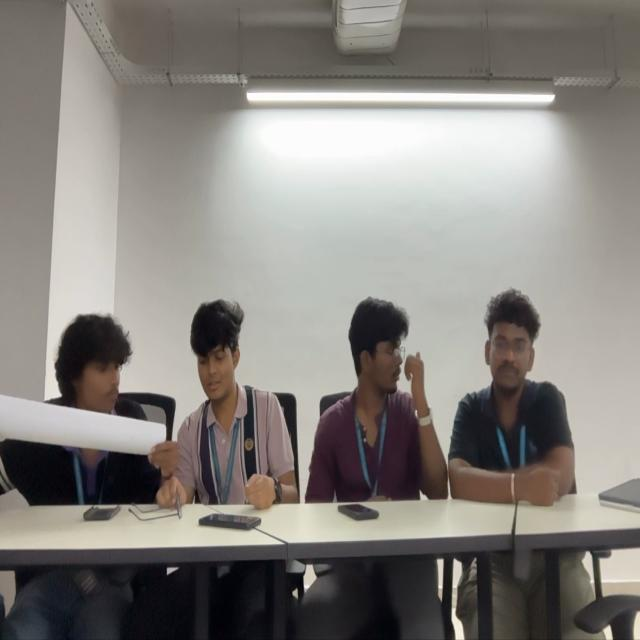Isolated: (306, 297, 445, 505), (449, 293, 578, 497)
socializing: (1, 256, 300, 499)
